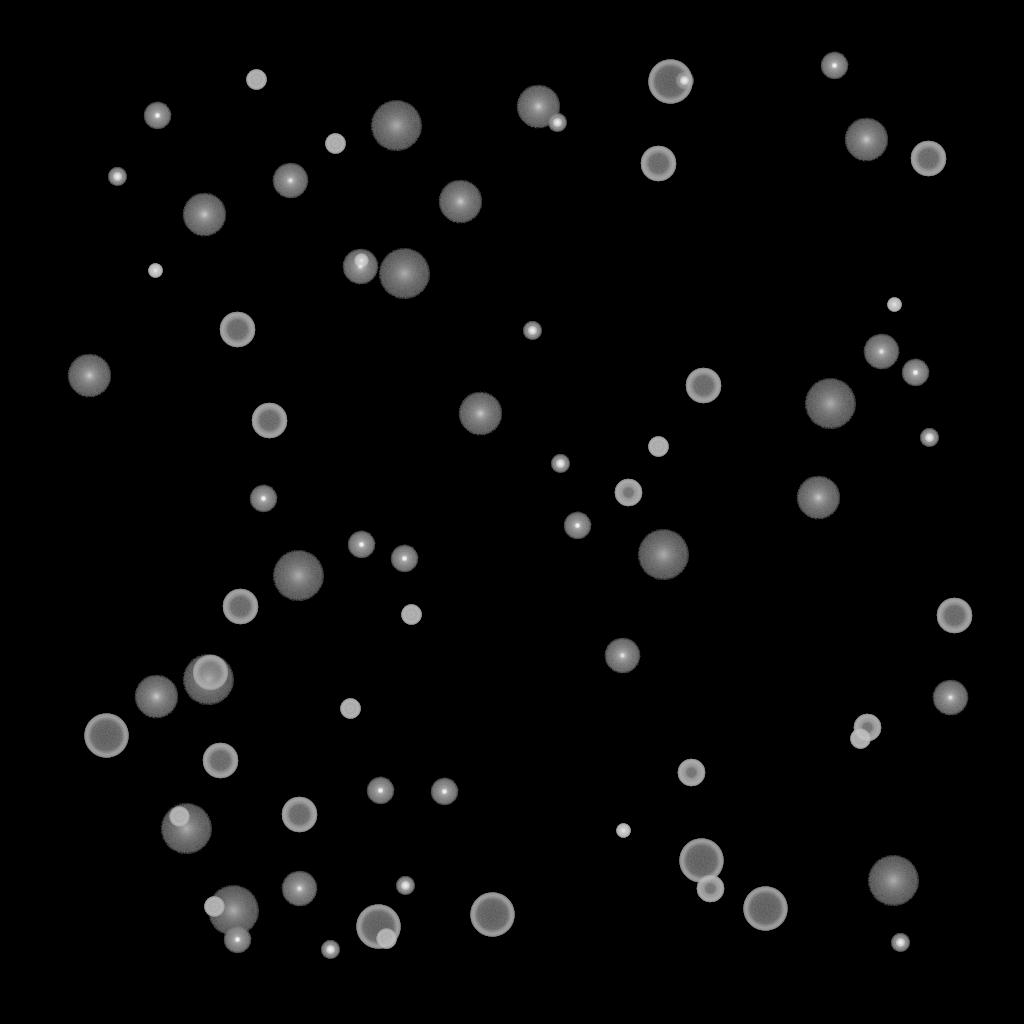depth:-10: (563, 512, 591, 540), (143, 102, 171, 130), (347, 531, 375, 559), (820, 52, 848, 80), (390, 545, 418, 573), (223, 926, 251, 954), (901, 359, 929, 387), (430, 778, 458, 806), (249, 485, 277, 513), (366, 777, 394, 805)
depth:-20: (108, 168, 126, 186), (523, 322, 541, 340), (920, 429, 938, 447), (675, 72, 693, 90), (891, 934, 909, 952), (321, 941, 339, 959), (551, 455, 569, 473), (548, 114, 566, 132), (396, 877, 414, 895)
depth:-30: (354, 254, 368, 268), (887, 298, 901, 312), (616, 824, 630, 838), (148, 264, 162, 278)
depth:-40: (204, 897, 224, 917), (169, 807, 189, 827), (401, 605, 421, 625), (325, 134, 345, 154), (648, 437, 668, 457), (376, 929, 396, 949), (850, 729, 870, 749), (246, 70, 266, 90), (340, 699, 360, 719)
depth:-50: (696, 875, 724, 903), (853, 714, 881, 742), (614, 479, 642, 507), (677, 759, 705, 787)
depth:-60: (936, 598, 972, 634), (640, 146, 676, 182), (202, 743, 238, 779), (910, 141, 946, 177), (222, 589, 258, 625), (281, 797, 317, 833), (192, 655, 228, 691), (685, 368, 721, 404), (251, 403, 287, 439), (219, 312, 255, 348)
depth:-70: (356, 905, 400, 949), (84, 714, 128, 758), (470, 893, 514, 937), (648, 60, 692, 104), (679, 839, 723, 883), (743, 887, 787, 931)
depth:0: (281, 871, 317, 907), (604, 638, 640, 674), (863, 334, 899, 370), (342, 249, 378, 285), (932, 680, 968, 716), (272, 163, 308, 199)
depth:10: (844, 118, 888, 162), (182, 193, 226, 237), (516, 85, 560, 129), (438, 180, 482, 224), (134, 675, 178, 719), (796, 476, 840, 520), (67, 354, 111, 398), (458, 392, 502, 436)
depth:20: (867, 856, 919, 906), (378, 249, 430, 299), (207, 886, 259, 936), (804, 379, 856, 429), (182, 655, 234, 705), (272, 551, 324, 601), (160, 804, 212, 854), (637, 530, 689, 580), (370, 101, 422, 151)
